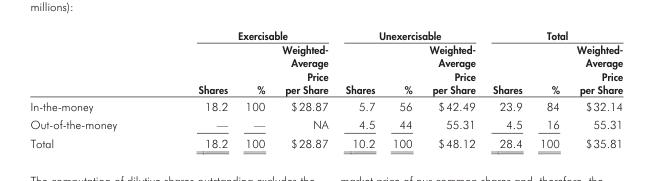table: (29, 28, 622, 149)
table column: (29, 28, 156, 149), (156, 28, 235, 149), (272, 28, 336, 149), (420, 28, 483, 149), (567, 28, 622, 149), (336, 28, 383, 149), (483, 28, 530, 149), (235, 28, 272, 149), (383, 28, 420, 149), (530, 28, 567, 149)
table column header: (29, 28, 622, 97)
table row: (29, 42, 622, 97), (29, 97, 622, 115), (29, 115, 622, 133), (29, 133, 622, 149), (29, 28, 622, 42)
table spanning cell: (156, 28, 336, 42), (336, 28, 483, 42), (483, 28, 622, 42)
